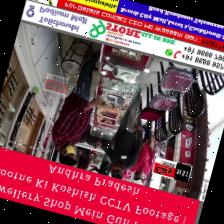person: (52, 51, 100, 165), (97, 89, 143, 178), (130, 120, 154, 184), (90, 154, 111, 175), (78, 148, 90, 169)
